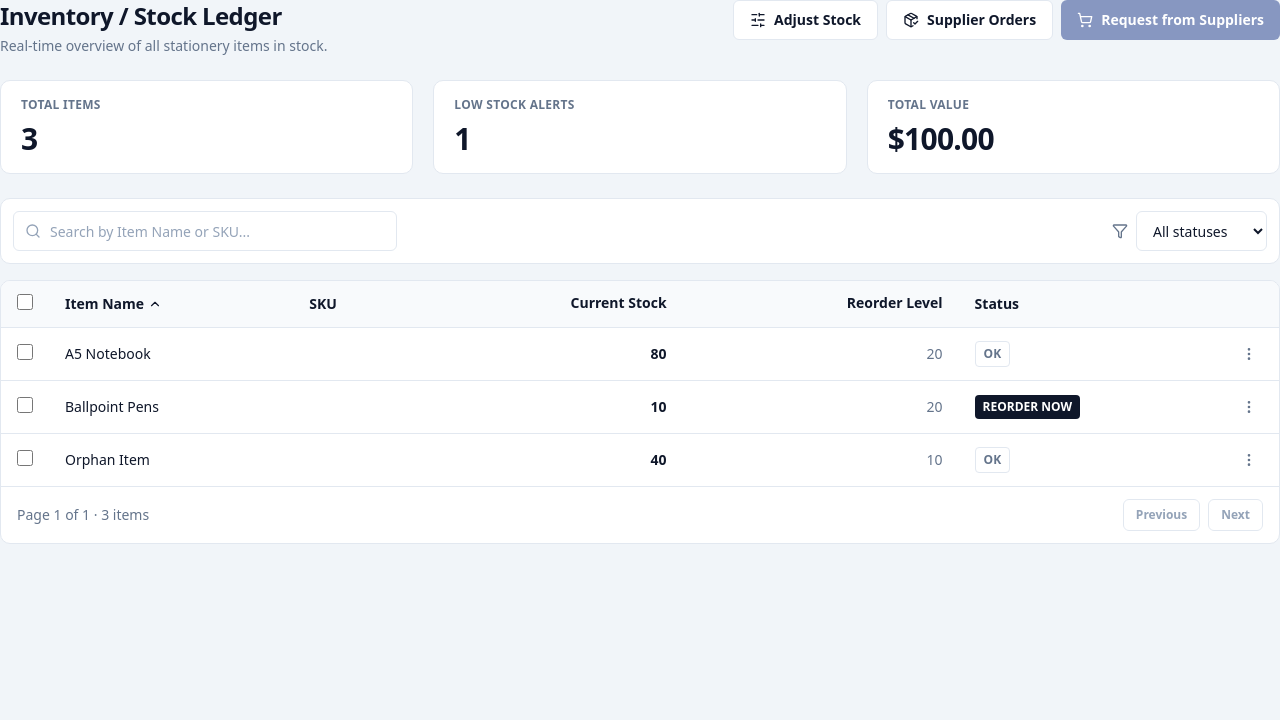
it: Inventory supplier-request cart › surfaces server validation errors instead of swallowing them
Expected: the text "Ballpoint Pens" is shown, [49,380,293,434]
Click the checkbox named "Select Ballpoint Pens". click: point(25, 404)
box: [17,396,33,412]
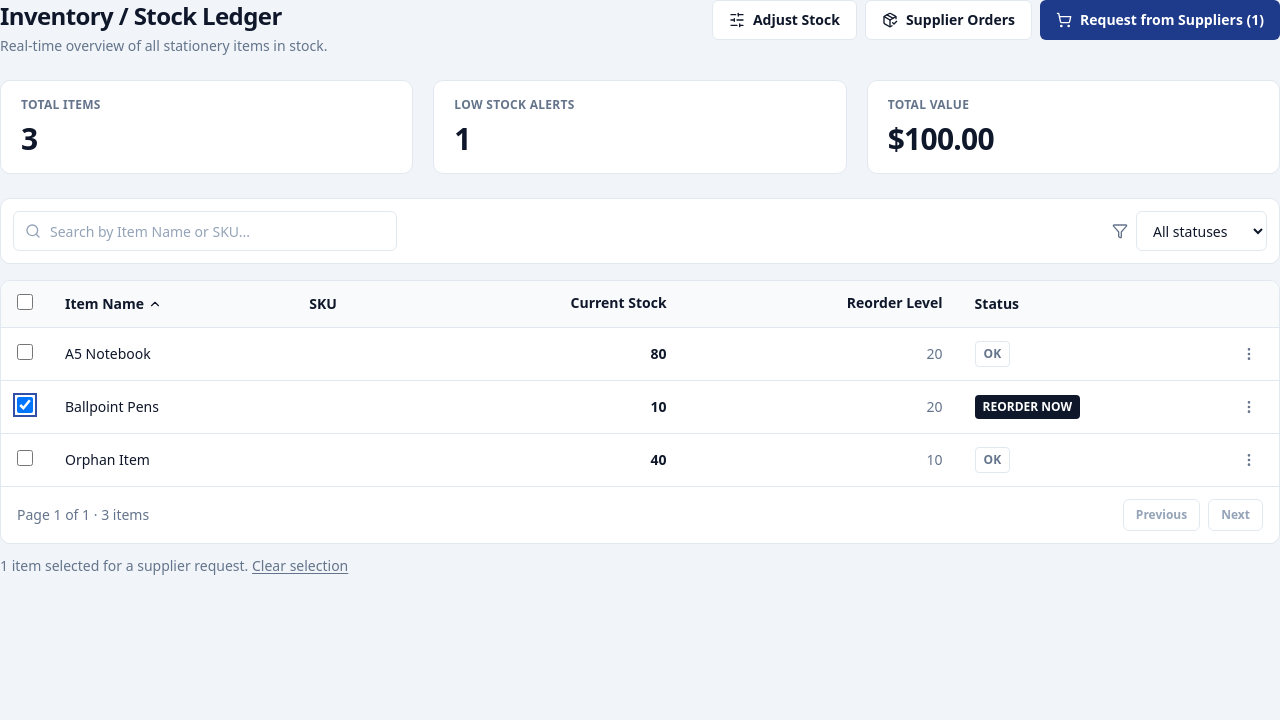
Click the button "Request from Suppliers (1)". click: point(1160, 20)
box: [1040,0,1279,40]
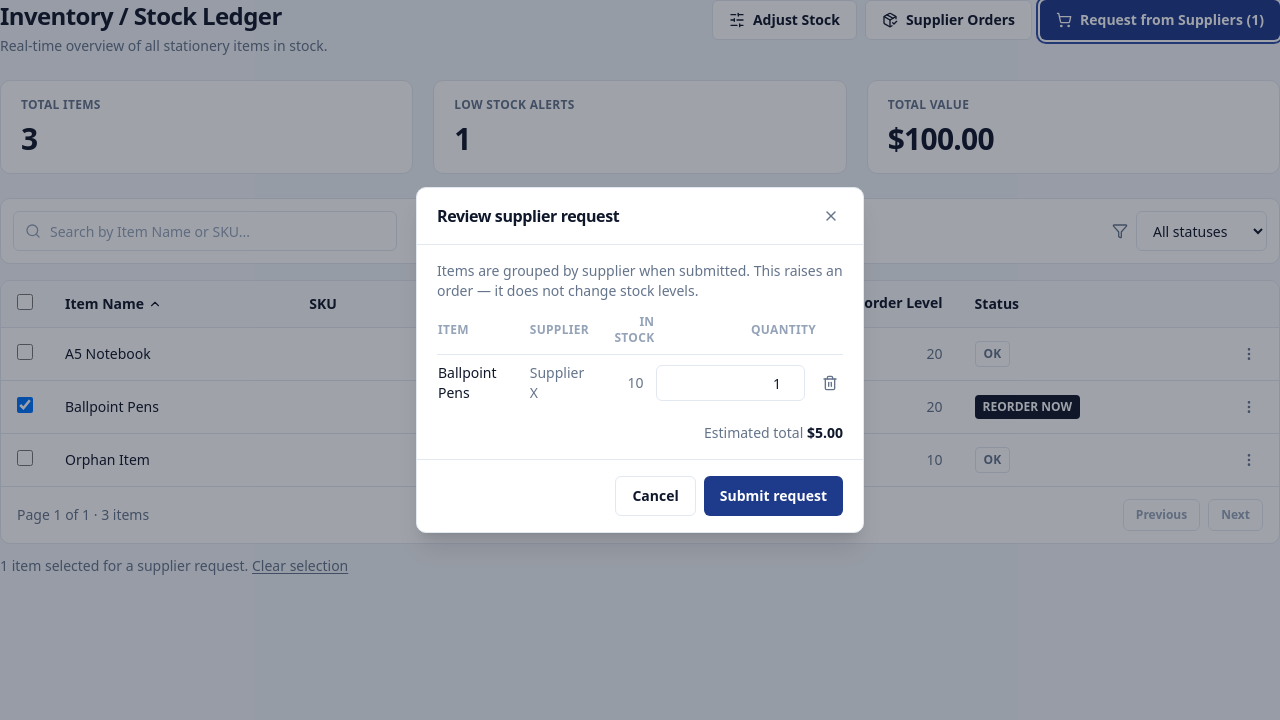
Click the button "Submit request". click: point(773, 496)
box: [704,476,843,516]
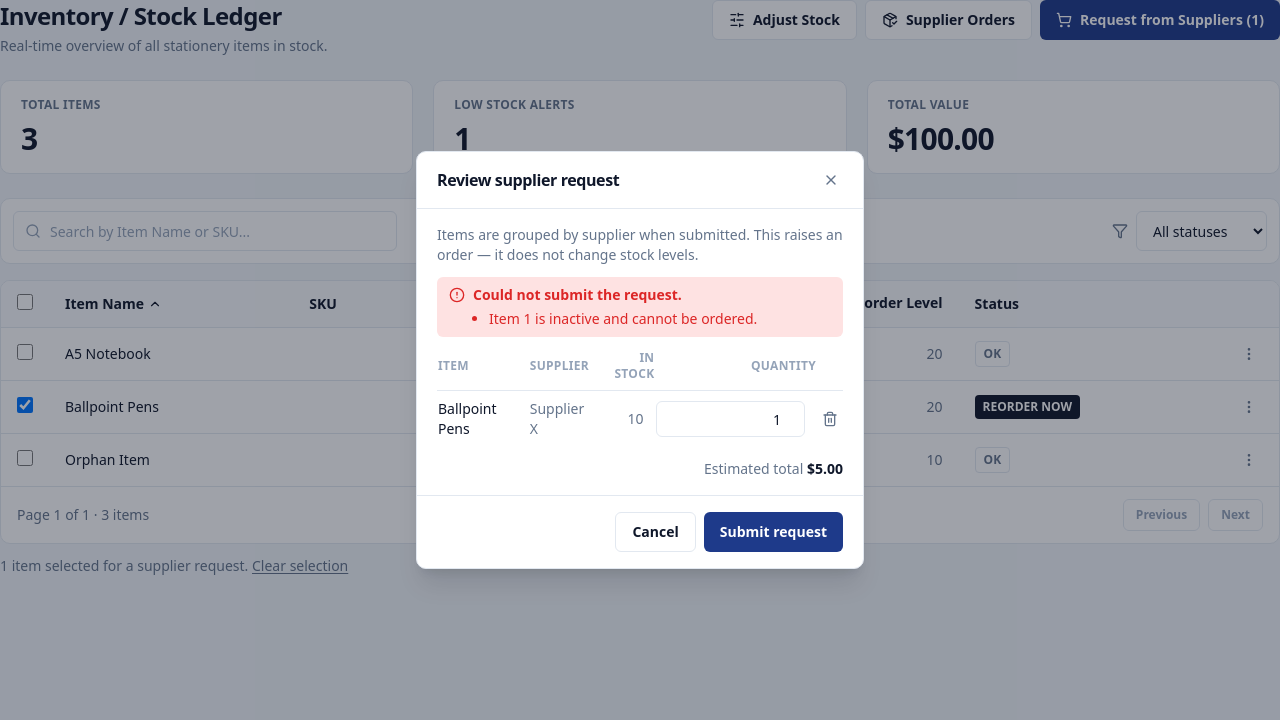
Expected: the list item "Item 1 is inactive and cannot be ordered." is shown, [489,309,757,329]
